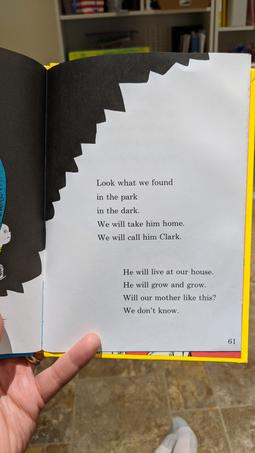text block: (81, 169, 195, 249), (112, 263, 224, 321)
